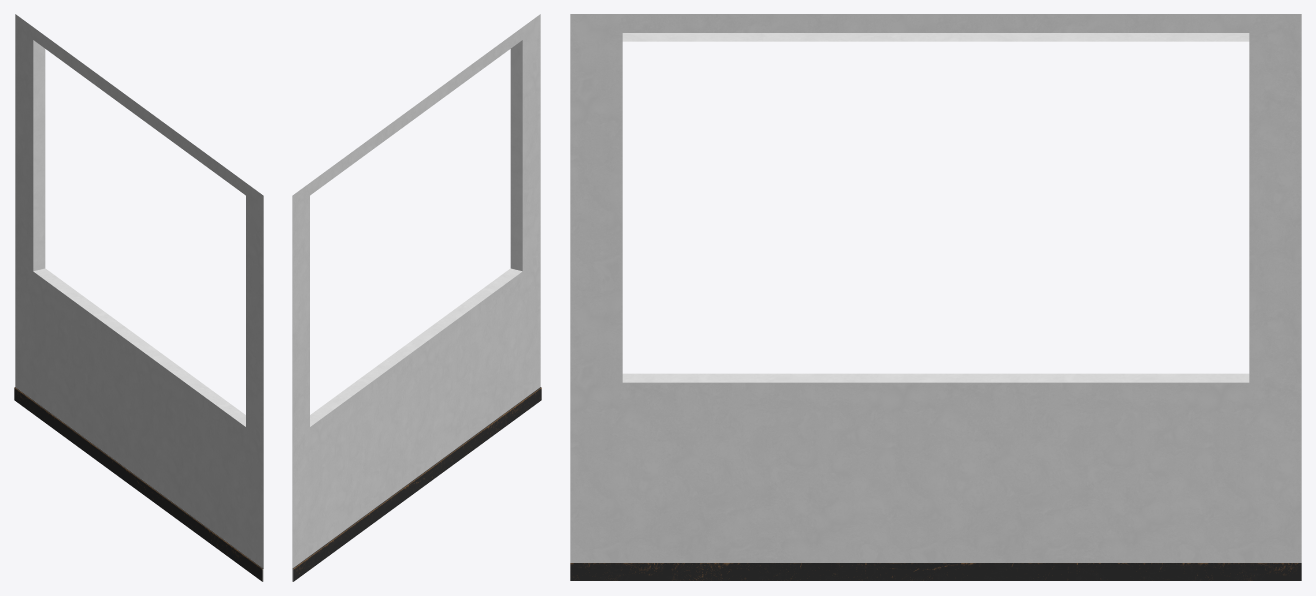
File: SM_InteriorWall_01_350_Window.fbx
The picture shows the model from 3 angles, left to right: view 1: azimuth 30°, elevation 25°; view 2: azimuth 150°, elevation 25°; view 3: azimuth 270°, elevation 25°; orthographic projection. The views are drawn at different scales.
Visible parts, largest first — view 1: SM_InteriorWall_01_350_Window_LOD0; view 2: SM_InteriorWall_01_350_Window_LOD0; view 3: SM_InteriorWall_01_350_Window_LOD0.
Boxes of the visible parts, bbox=[...] form: SM_InteriorWall_01_350_Window_LOD0: bbox=[14, 14, 263, 581]; SM_InteriorWall_01_350_Window_LOD0: bbox=[292, 14, 541, 581]; SM_InteriorWall_01_350_Window_LOD0: bbox=[570, 14, 1301, 580].
Size of the model in its own units: 11 by 350 by 300.
